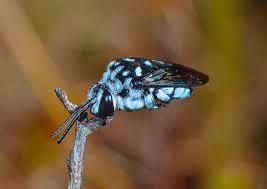Thyreus: (70, 49, 213, 124)
